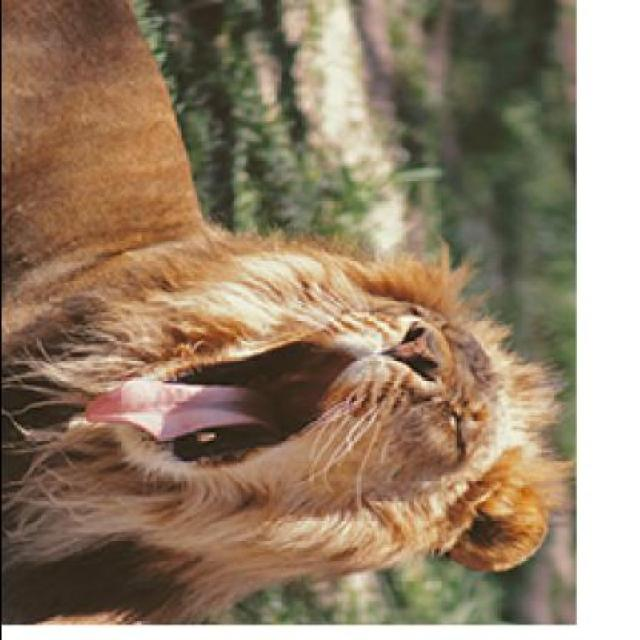Lion: (2, 220, 570, 638)
